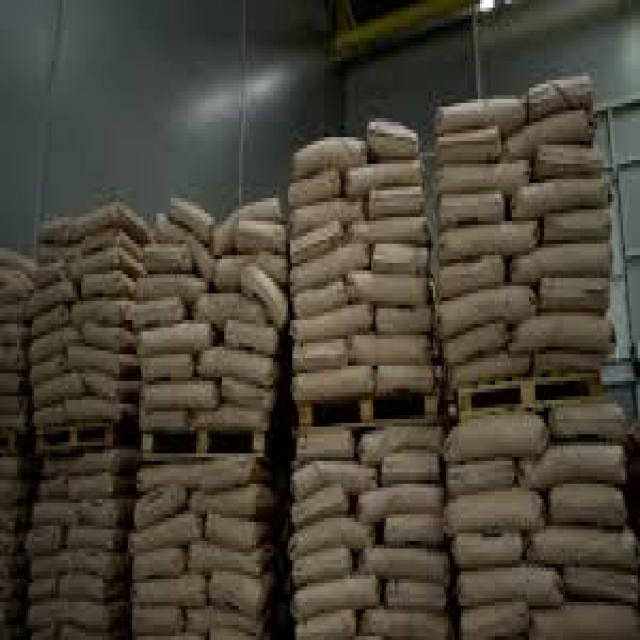cement_bag: (440, 410, 544, 462), (441, 213, 534, 270), (513, 310, 616, 360), (514, 171, 609, 225), (510, 235, 610, 286), (523, 440, 628, 488), (295, 230, 369, 293), (536, 523, 632, 571), (443, 281, 529, 334), (294, 570, 379, 620), (296, 293, 369, 348), (448, 490, 537, 535), (461, 566, 560, 606), (357, 544, 453, 584), (129, 509, 203, 559), (515, 111, 592, 159), (542, 601, 636, 640), (439, 94, 524, 137), (357, 481, 443, 523), (528, 69, 592, 121), (447, 317, 506, 372), (242, 261, 289, 329), (442, 161, 526, 199), (208, 568, 267, 622), (293, 519, 374, 558), (554, 485, 627, 528), (291, 196, 364, 239), (190, 483, 277, 519), (293, 362, 370, 402), (192, 540, 272, 578), (346, 158, 421, 197), (297, 140, 363, 182), (145, 379, 216, 417), (291, 466, 378, 497), (196, 286, 263, 326), (464, 599, 529, 640), (292, 429, 360, 468), (135, 573, 205, 610), (201, 351, 272, 387), (353, 331, 426, 365), (90, 204, 151, 243), (172, 194, 218, 244), (143, 320, 208, 355), (371, 610, 446, 640), (69, 346, 137, 379), (353, 270, 425, 301), (136, 483, 183, 530), (204, 450, 255, 493), (371, 177, 427, 216), (380, 454, 441, 488), (208, 514, 257, 554), (70, 598, 126, 633), (225, 317, 275, 355), (59, 577, 124, 606), (26, 276, 67, 321), (377, 362, 433, 393), (29, 324, 70, 366), (239, 218, 288, 253), (225, 376, 273, 410), (140, 351, 191, 383), (372, 244, 430, 272), (71, 475, 129, 503), (35, 373, 78, 410), (141, 275, 202, 301), (142, 239, 189, 272), (71, 555, 127, 582), (69, 528, 122, 554), (68, 400, 120, 426), (137, 606, 180, 637), (72, 298, 121, 324), (30, 304, 65, 340), (34, 502, 76, 530), (82, 324, 122, 353), (31, 351, 63, 387), (83, 270, 120, 299), (84, 229, 119, 258), (30, 600, 69, 625), (31, 554, 67, 577), (31, 574, 56, 602)
